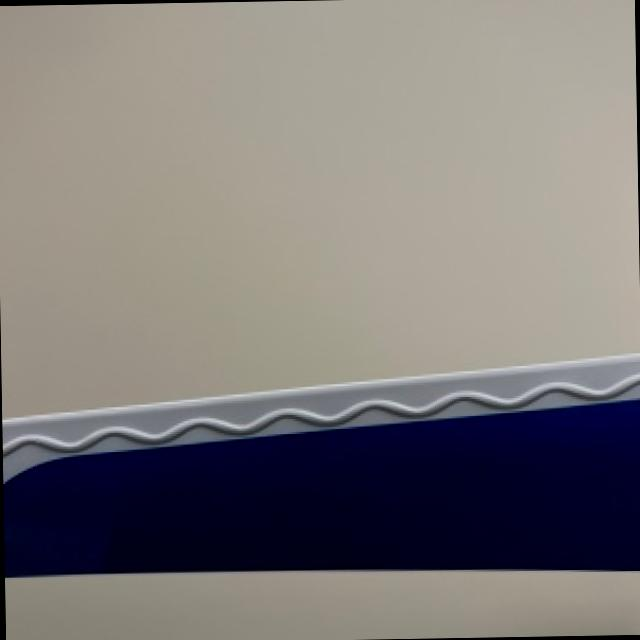healthy: (2, 353, 640, 640)
